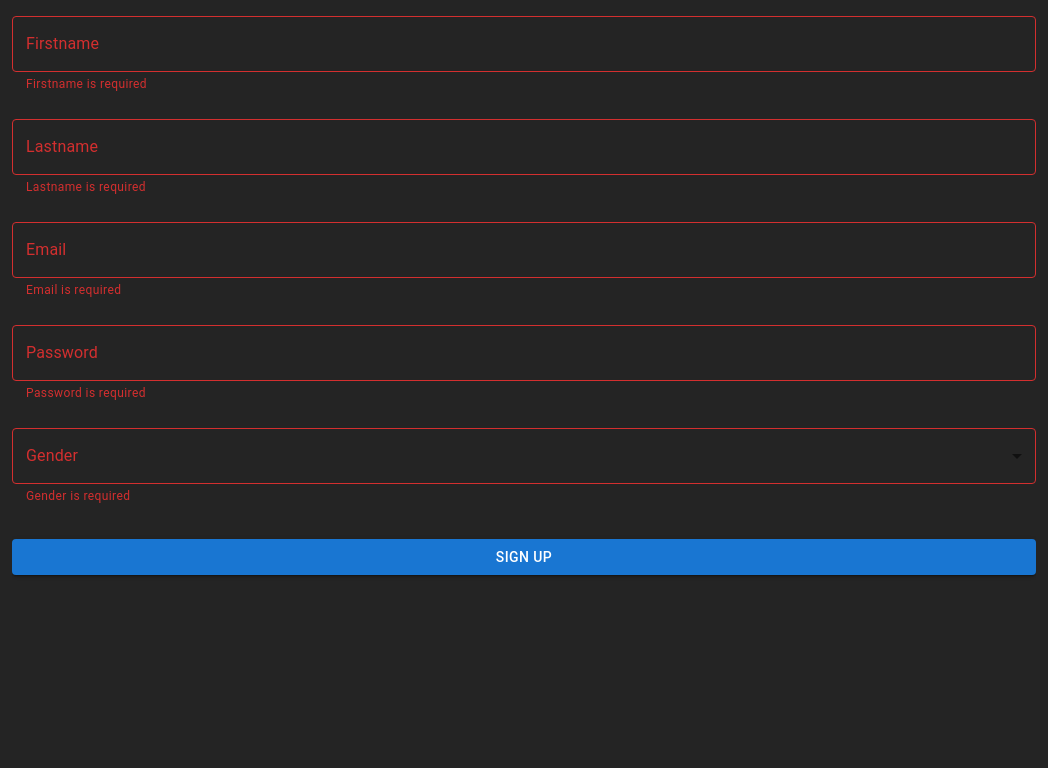
Test case: SignupForm › shows validation error for invalid email and short password
Type "invalid-email" into the field labelled "Email".
click(524, 250); type("invalid-email")  # box 12,222 -> 1036,278
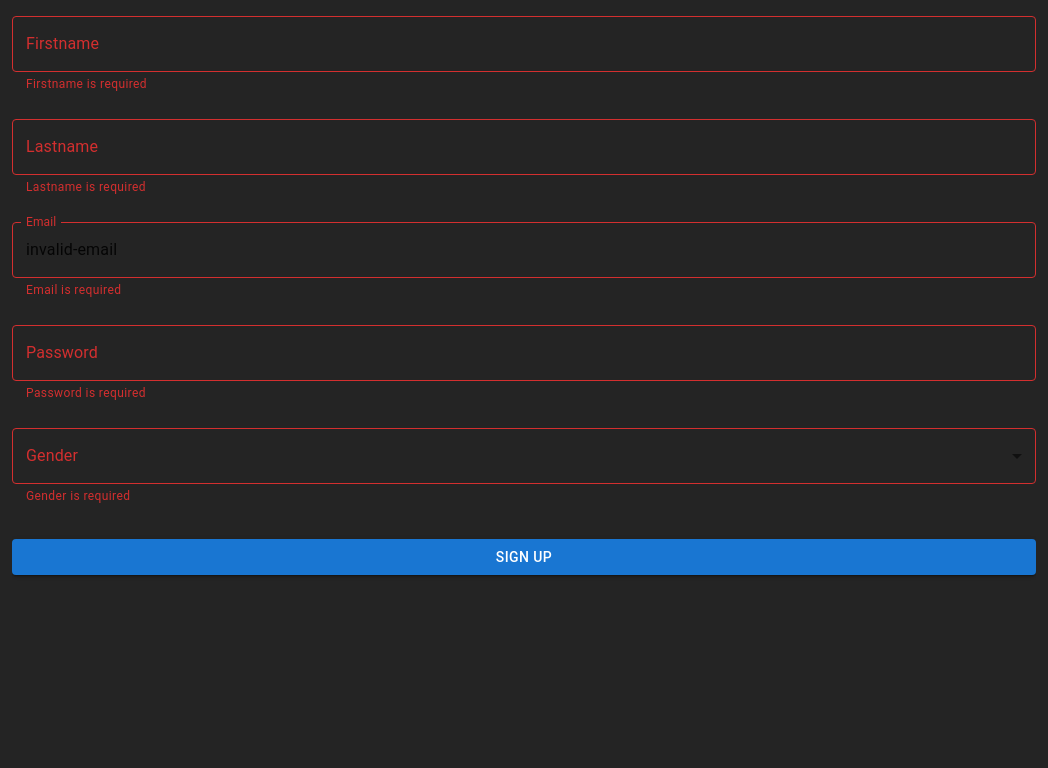
Type "short" into the password field labelled "Password".
click(524, 353); type("short")  # box 12,325 -> 1036,381
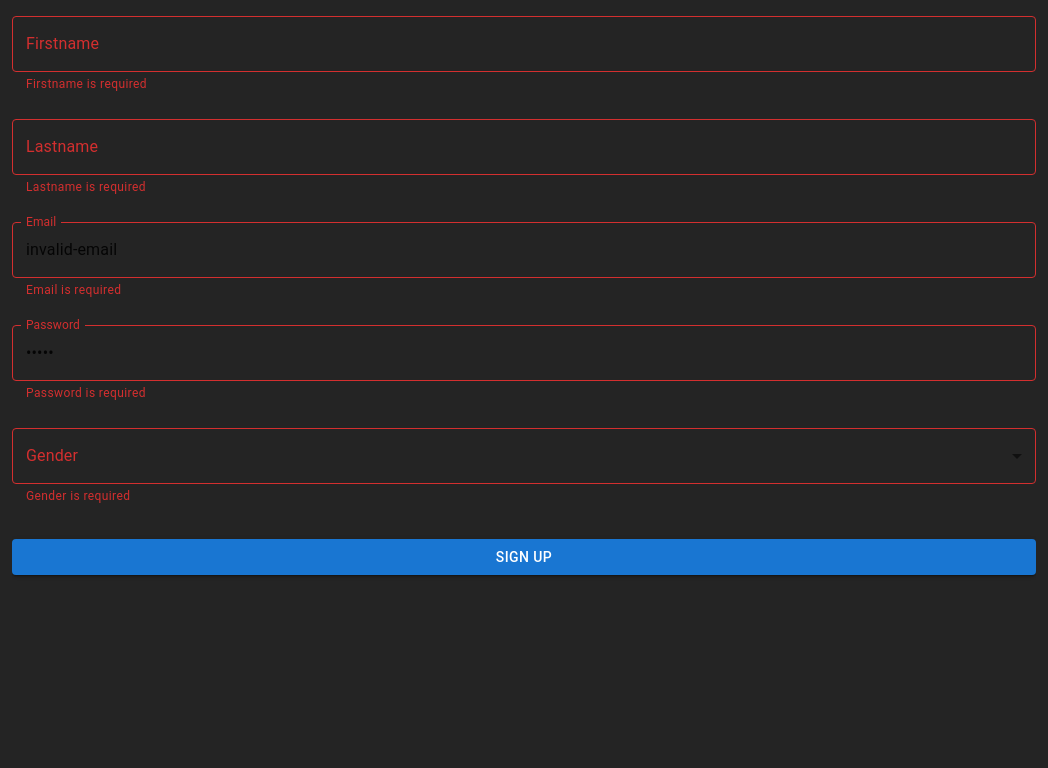
Click the button "Sign Up".
click(524, 557)  # box 12,538 -> 1036,575
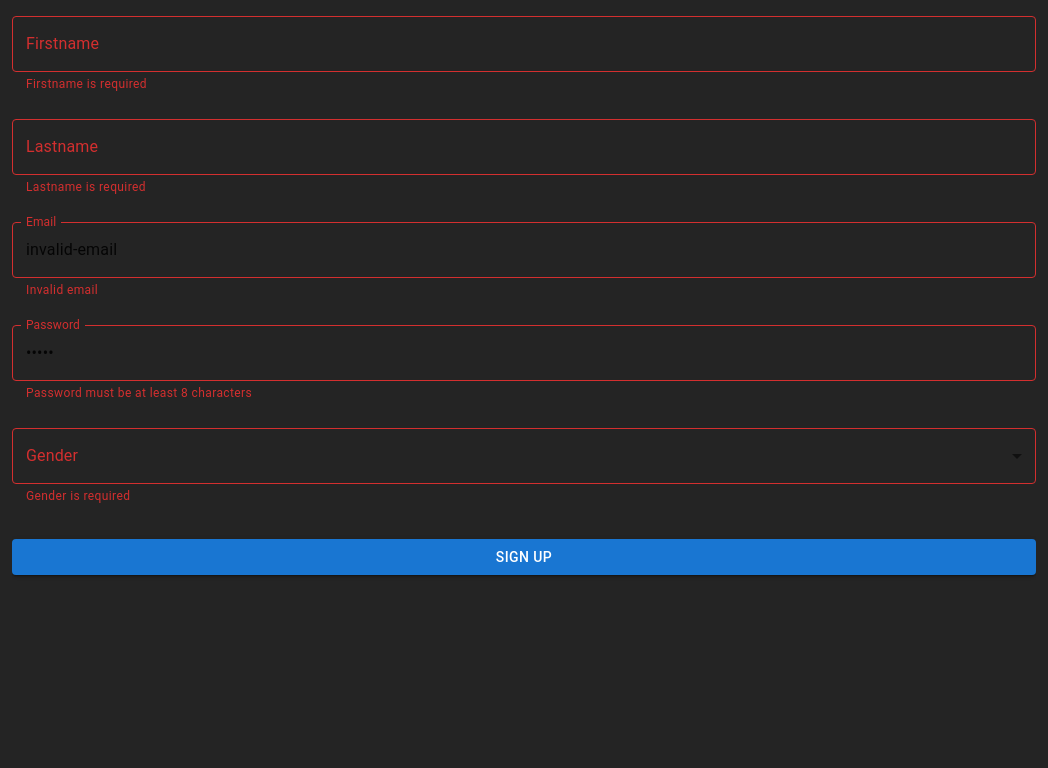
Now the text "Invalid email" is shown, box 26,283 -> 98,297
Now the text "Password must be at least 8 characters" is shown, box 26,386 -> 252,400
